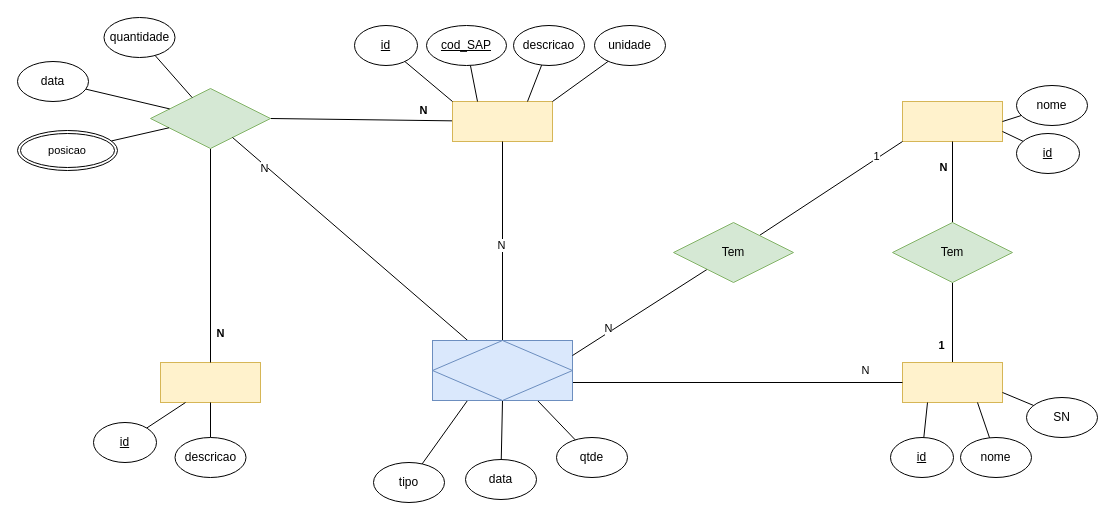
This 1115x520 diagram has some shape labels left out. The centre of each missing label's shape, as x and y in pixels:
ARMAZEM: (210,382)
Armazena: (210,118)
MATERIAL: (502,121)
Movimenta: (502,370)
PROFESSOR: (952,382)
TURMA: (952,121)
